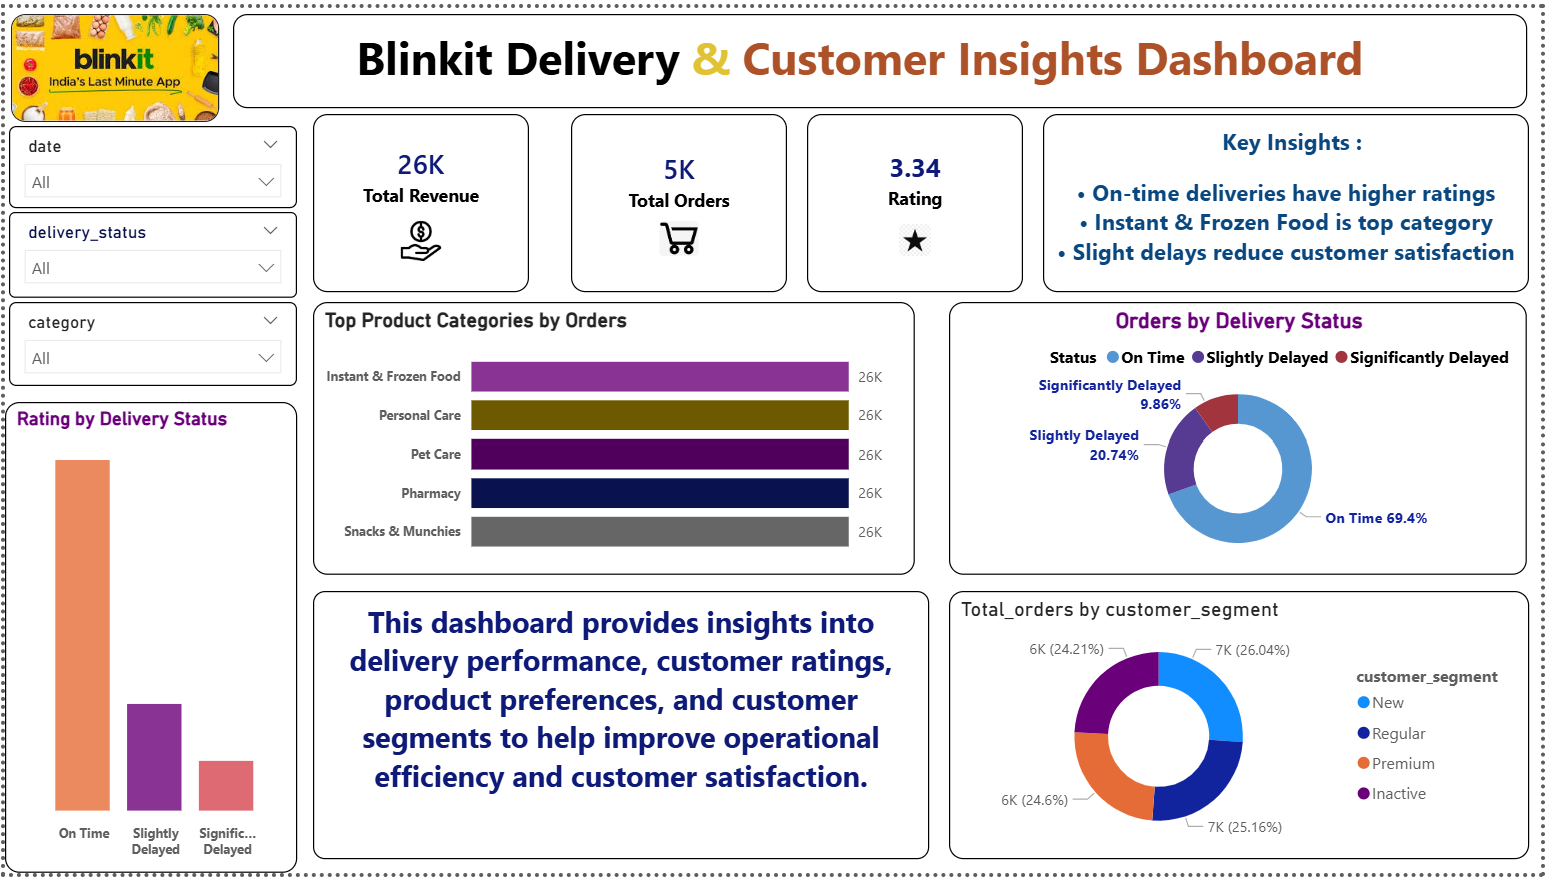

The page's visual inventory and layout, read from the dashboard file:
{"tool":"powerbi","page":{"name":"Page 1","canvas":[1280,720],"ordinal":0},"visuals":[{"type":"image","box":[5,5,173.3,90],"z":0},{"type":"donutChart","title":"Total_orders by customer_segment","fields":{"Category":["blinkit_customers.customer_segment"],"Y":["Sum(blinkit_customers.total_orders)"]},"box":[786.7,485,483.3,223.3],"z":1000},{"type":"donutChart","title":"Orders by Delivery Status","fields":{"Category":["blinkit_delivery_performance.delivery_status"],"Y":["CountNonNull(blinkit_order_items.order_id)"]},"box":[786.7,245,481.7,226.7],"z":2000},{"type":"columnChart","title":"Rating by Delivery Status","fields":{"Category":["blinkit_delivery_performance.delivery_status"],"Y":["Sum(blinkit_customer_feedback.rating)"]},"box":[0,328.3,243.3,391.7],"z":3000},{"type":"barChart","title":"Top Product Categories by Orders","fields":{"Category":["blinkit_products.category"],"Y":["blinkit_customer_feedback.Total Revnue"]},"box":[256.7,245,501.7,226.7],"z":4000},{"type":"slicer","fields":{"Values":["blinkit_delivery_performance.delivery_status"]},"box":[3.3,170,240,71.7],"z":5000},{"type":"slicer","fields":{"Values":["blinkit_products.category"]},"box":[3.3,245,240,70],"z":6000},{"type":"slicer","fields":{"Values":["blinkit_marketing_performance.date"]},"box":[3.3,98.3,240,68.3],"z":7000},{"type":"textbox","box":[190,5,1078.3,78.3],"z":8000},{"type":"cardVisual","fields":{"Data":["blinkit_customer_feedback.Total Orders"]},"box":[471.7,88.3,180,148.3],"z":8001},{"type":"cardVisual","fields":{"Data":["blinkit_customer_feedback.Total Revnue"]},"box":[256.7,88.3,180,148.3],"z":8002},{"type":"cardVisual","fields":{"Data":["blinkit_customer_feedback.Average Rating"]},"box":[668.3,88.3,180,148.3],"z":8003},{"type":"textbox","box":[865,88.3,405,148.3],"z":8004},{"type":"textbox","box":[256.7,485,513.3,223.3],"z":8005}]}

Visuals, with their boxes in screenshot pixels (x1, y1, x2, y2), scaled from the page's 1280x720 canvas onto the 1552x878 screenshot:
image: x1=6, y1=6, x2=216, y2=116
"Total_orders by customer_segment" donutChart: x1=954, y1=591, x2=1540, y2=864
"Orders by Delivery Status" donutChart: x1=954, y1=299, x2=1538, y2=575
"Rating by Delivery Status" columnChart: x1=0, y1=400, x2=295, y2=877
"Top Product Categories by Orders" barChart: x1=311, y1=299, x2=920, y2=575
slicer - blinkit_delivery_performance.delivery_status: x1=4, y1=207, x2=295, y2=295
slicer - blinkit_products.category: x1=4, y1=299, x2=295, y2=384
slicer - blinkit_marketing_performance.date: x1=4, y1=120, x2=295, y2=203
textbox: x1=230, y1=6, x2=1538, y2=102
cardVisual - blinkit_customer_feedback.Total Orders: x1=572, y1=108, x2=790, y2=289
cardVisual - blinkit_customer_feedback.Total Revnue: x1=311, y1=108, x2=529, y2=289
cardVisual - blinkit_customer_feedback.Average Rating: x1=810, y1=108, x2=1029, y2=289
textbox: x1=1049, y1=108, x2=1540, y2=289
textbox: x1=311, y1=591, x2=934, y2=864
